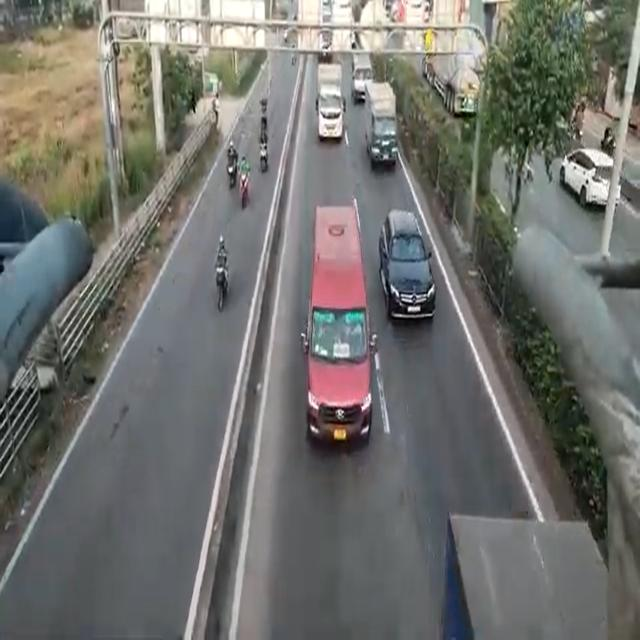bus: (304, 202, 382, 455)
car: (379, 200, 437, 326)
motor: (214, 236, 230, 308), (237, 145, 251, 215), (223, 129, 238, 185), (255, 129, 269, 181)
truck: (364, 85, 402, 163), (316, 58, 348, 145)
